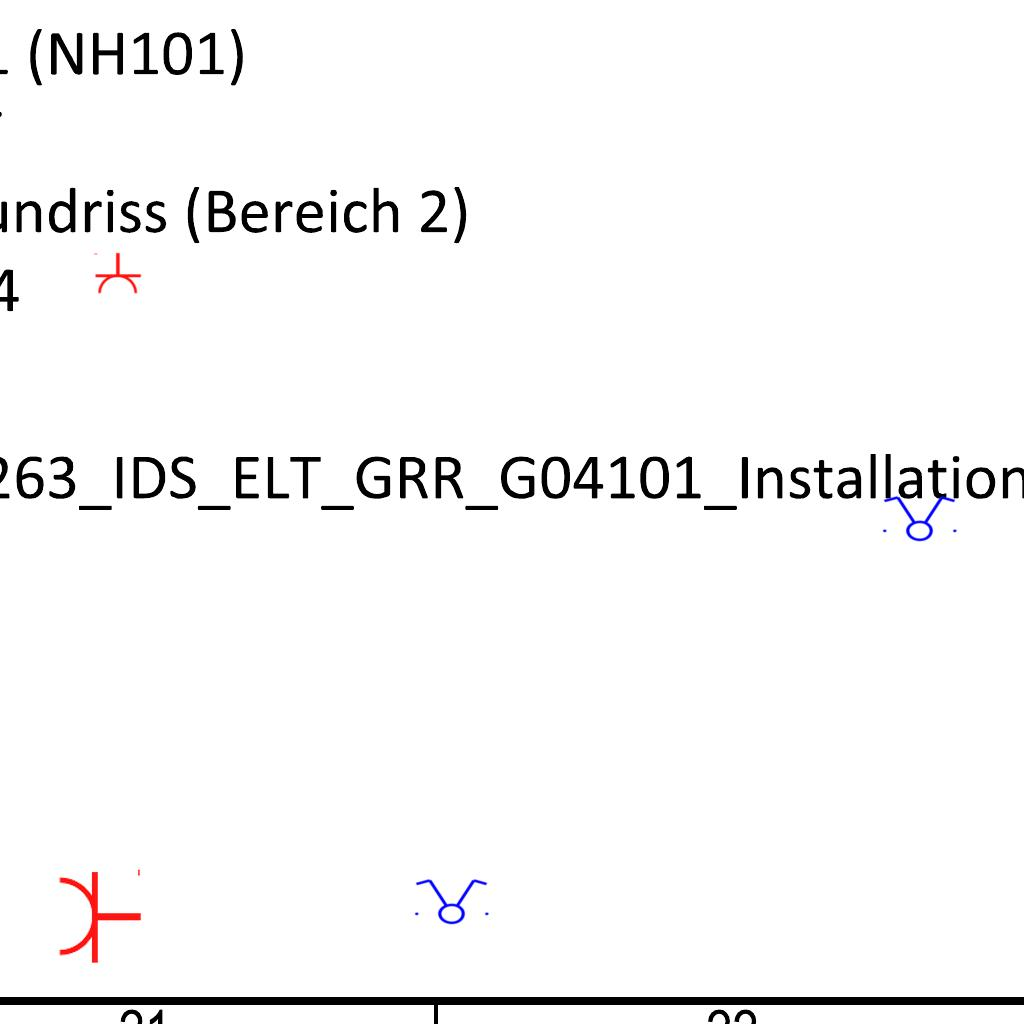Schukosteckdose_einfach: (56, 865, 143, 965), (92, 252, 142, 295)
Serienschalter: (877, 494, 961, 542), (409, 877, 493, 925)
